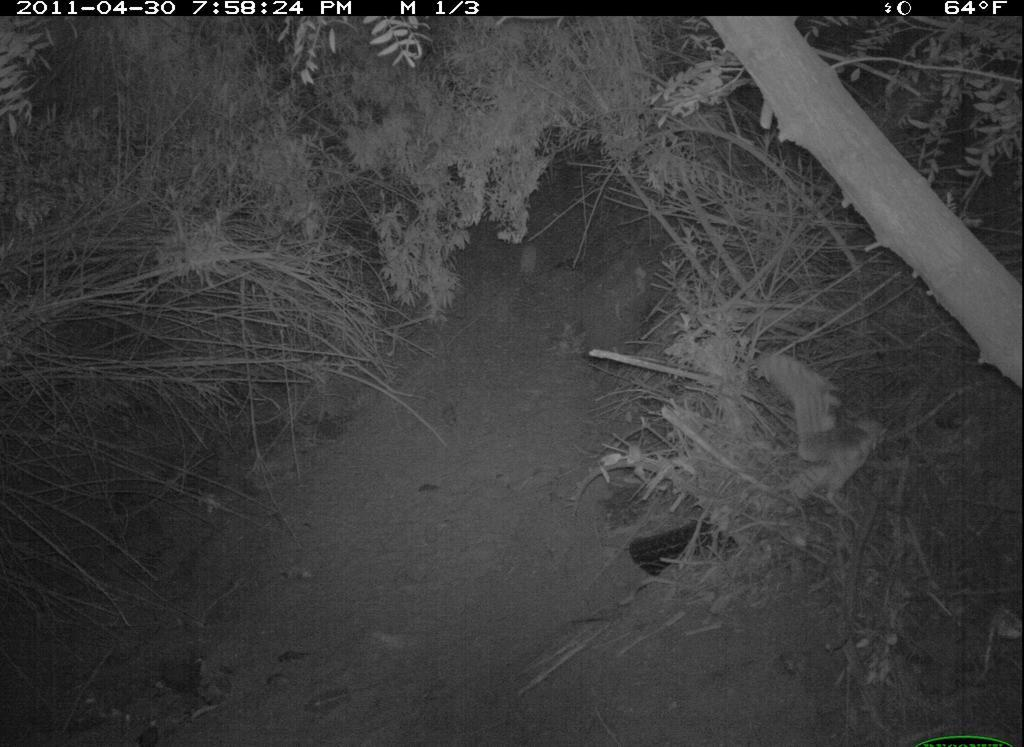bird: (749, 341, 908, 532)
